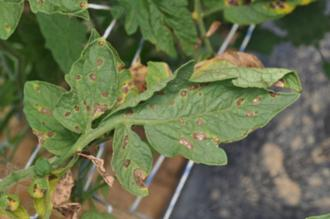Tomato Early blight leaf: (106, 25, 319, 197), (32, 35, 142, 140), (91, 111, 169, 207), (201, 0, 299, 43)
